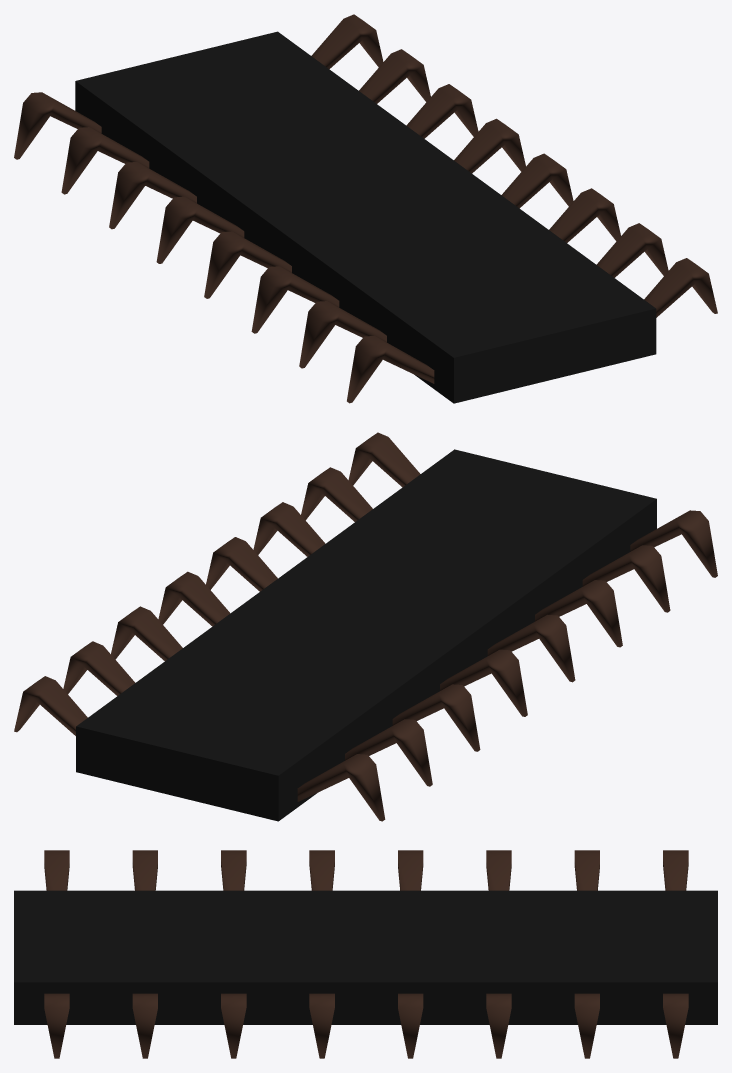
Rendered from Mesh_MtPanorama_Chip2.FBX.
3 views of the same model, one above another, from view 1: azimuth 30°, elevation 25°; view 2: azimuth 150°, elevation 25°; view 3: azimuth 270°, elevation 25° (orthographic). The views are drawn at different scales.
Visible parts, largest first — view 1: Mesh_MtPanorama_Chip2; view 2: Mesh_MtPanorama_Chip2; view 3: Mesh_MtPanorama_Chip2.
Part boxes in pixels (left/top/right/bottom): Mesh_MtPanorama_Chip2: left=14, top=14, right=717, bottom=403; Mesh_MtPanorama_Chip2: left=14, top=432, right=717, bottom=821; Mesh_MtPanorama_Chip2: left=14, top=850, right=717, bottom=1058.
Size of what is drawn, in the model's own units: 313 by 557 by 48.62.
